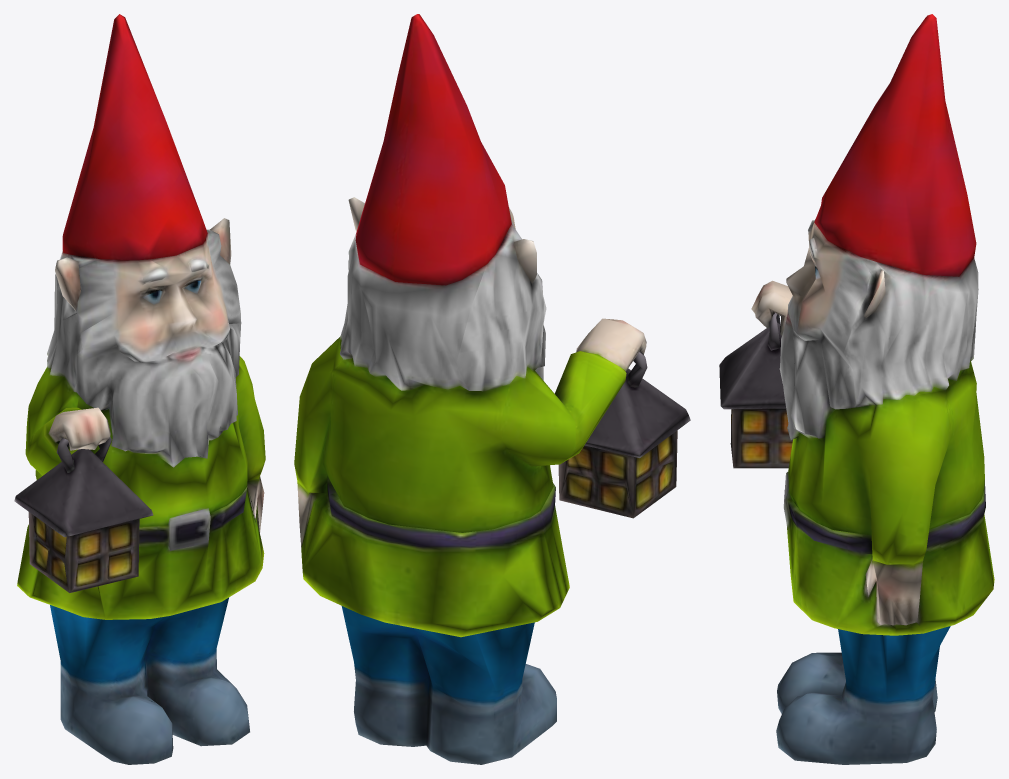
Rendered from garden_gnome.glb.
3 views of the same model, side by side, from view 1: azimuth 30°, elevation 25°; view 2: azimuth 150°, elevation 25°; view 3: azimuth 270°, elevation 25° (orthographic). The views are drawn at different scales.
Parts seen in each view (by area): view 1: garden_gnome; view 2: garden_gnome; view 3: garden_gnome.
Boxes of the visible parts, <box> form: garden_gnome: <box>14,14,265,764</box>; garden_gnome: <box>294,14,690,764</box>; garden_gnome: <box>719,14,994,764</box>.
Size of the model in its own units: 0.2563 by 0.5985 by 0.209.
Materials: 1 (1 with a texture image).
